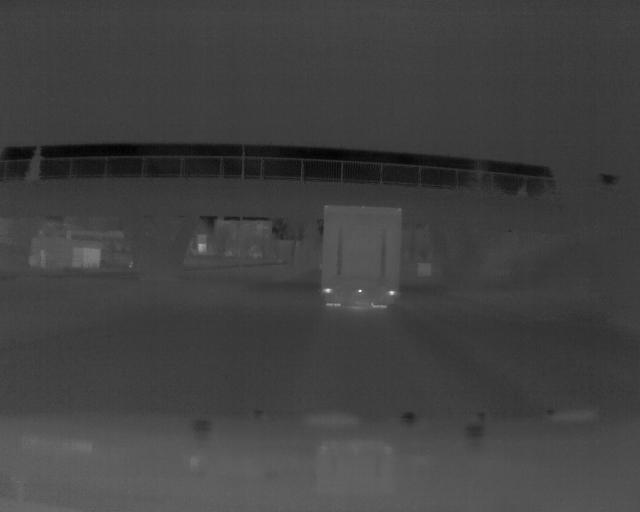car: (318, 200, 403, 318)
